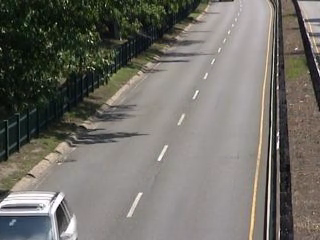car: (1, 186, 86, 240)
